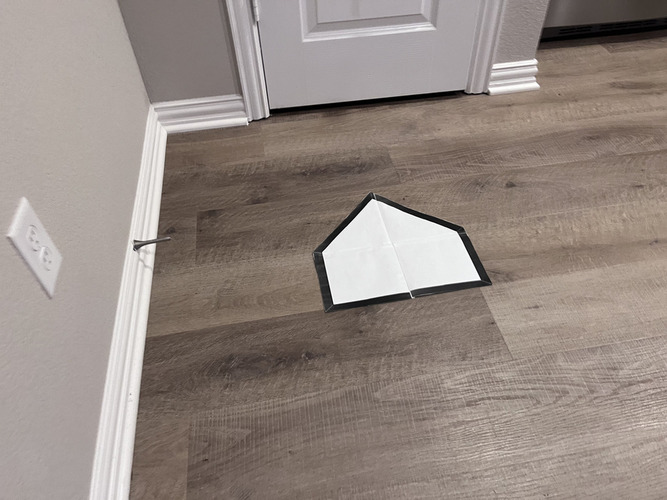homeplate: (313, 191, 492, 314)
